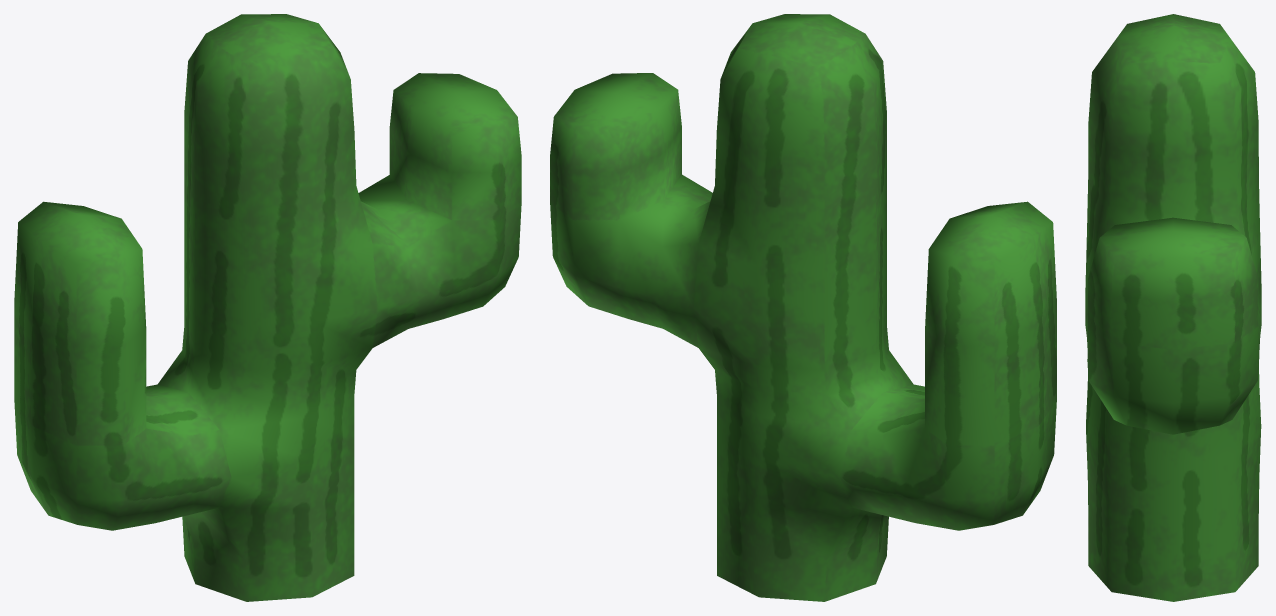
File: Cactus_1.fbx
The picture shows the model from 3 angles, left to right: view 1: azimuth 30°, elevation 25°; view 2: azimuth 150°, elevation 25°; view 3: azimuth 270°, elevation 25°; orthographic projection.
Parts seen in each view (by area): view 1: Cactus_1; view 2: Cactus_1; view 3: Cactus_1.
Part boxes in pixels (left/top/right/bottom): Cactus_1: left=14, top=14, right=521, bottom=601; Cactus_1: left=550, top=14, right=1056, bottom=601; Cactus_1: left=1085, top=14, right=1261, bottom=601.
Bounding box in the file's own units: 89.97 × 99.03 × 29.35.
1 material, 1 textured.
